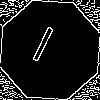I: (25, 25, 57, 72)
